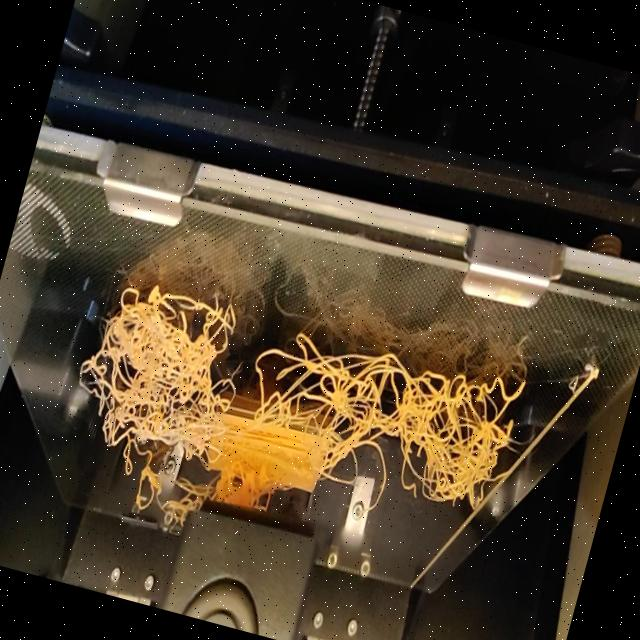spaghetti: (56, 257, 532, 568), (123, 467, 196, 530)
